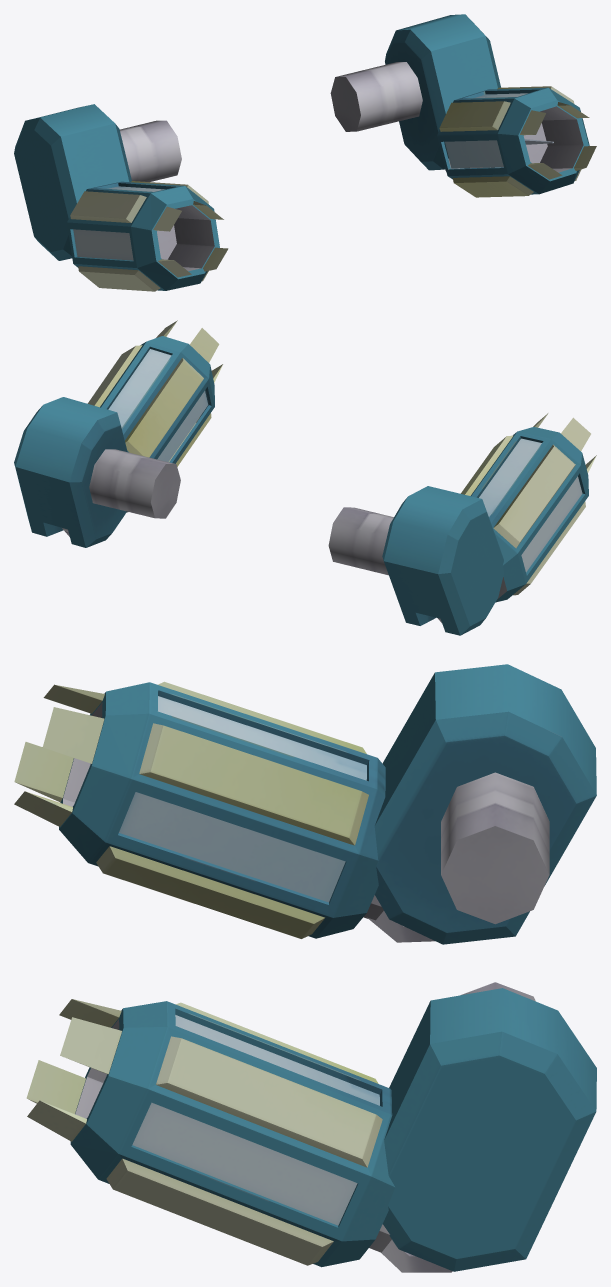
Rendered from player_arm_attack4.obj.
3 renders of one model, top to bottom at view 1: azimuth 30°, elevation 25°; view 2: azimuth 150°, elevation 25°; view 3: azimuth 270°, elevation 25°, orthographic. The views are drawn at different scales.
Visible parts, largest first — view 1: Object009, Object010, Object007, Object008, Object005, Object006; view 2: Object007, Object009, Object008, Object010, Object005, Object006; view 3: Object009, Object010, Object008, Object007, Object006.
Boxes of the visible parts, x1=… form: Object009: x1=67, y1=181, x2=228, y2=291; Object010: x1=437, y1=86, x2=596, y2=197; Object007: x1=14, y1=104, x2=131, y2=260; Object008: x1=385, y1=14, x2=500, y2=170; Object005: x1=330, y1=62, x2=422, y2=131; Object006: x1=120, y1=120, x2=181, y2=181; Object007: x1=382, y1=486, x2=503, y2=635; Object009: x1=437, y1=413, x2=596, y2=622; Object008: x1=14, y1=397, x2=127, y2=547; Object010: x1=62, y1=320, x2=222, y2=536; Object005: x1=89, y1=449, x2=180, y2=518; Object006: x1=328, y1=507, x2=393, y2=575; Object009: x1=14, y1=681, x2=434, y2=942; Object010: x1=26, y1=999, x2=452, y2=1272; Object008: x1=383, y1=988, x2=596, y2=1271; Object007: x1=374, y1=664, x2=596, y2=944; Object006: x1=441, y1=772, x2=549, y2=924.
Bounding box in the file's own units: 176 × 52.36 × 108.
Materials: 2 (1 with a texture image).
